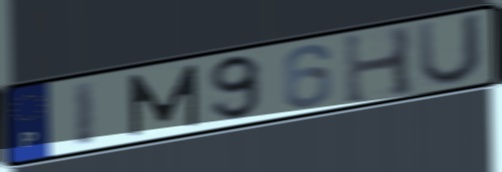6: (281, 42, 334, 110)
9: (206, 53, 265, 123)
H: (341, 23, 418, 108)
I: (70, 77, 98, 150)
M: (125, 61, 202, 139)
U: (414, 10, 486, 88)
